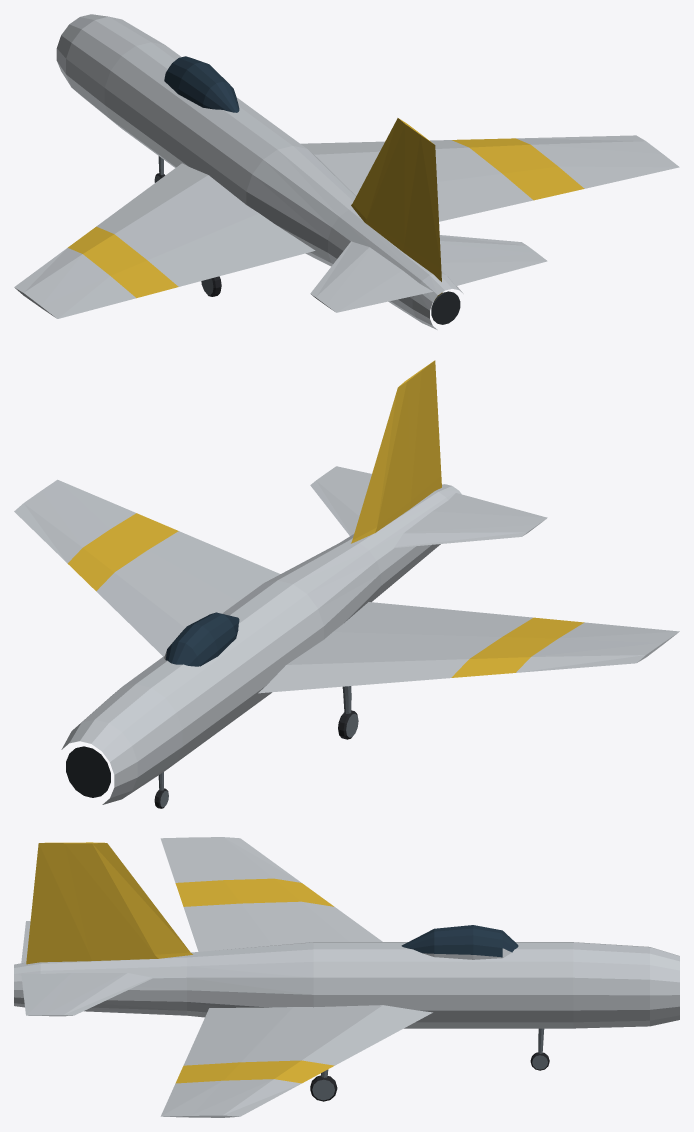
3 renders of one model, top to bottom at view 1: azimuth 30°, elevation 25°; view 2: azimuth 150°, elevation 25°; view 3: azimuth 270°, elevation 25°, orthographic. The views are drawn at different scales.
Parts seen in each view (by area): view 1: airframe; view 2: airframe, gear; view 3: airframe, gear.
Boxes of the visible parts, box(x1,y1,x2,y2) form: airframe: box(14, 14, 679, 329); airframe: box(14, 360, 679, 804); gear: box(154, 686, 358, 808); airframe: box(14, 837, 679, 1117); gear: box(310, 1028, 549, 1101).
Bounding box in the file's own units: 11.31 × 4.3 × 11.43.
